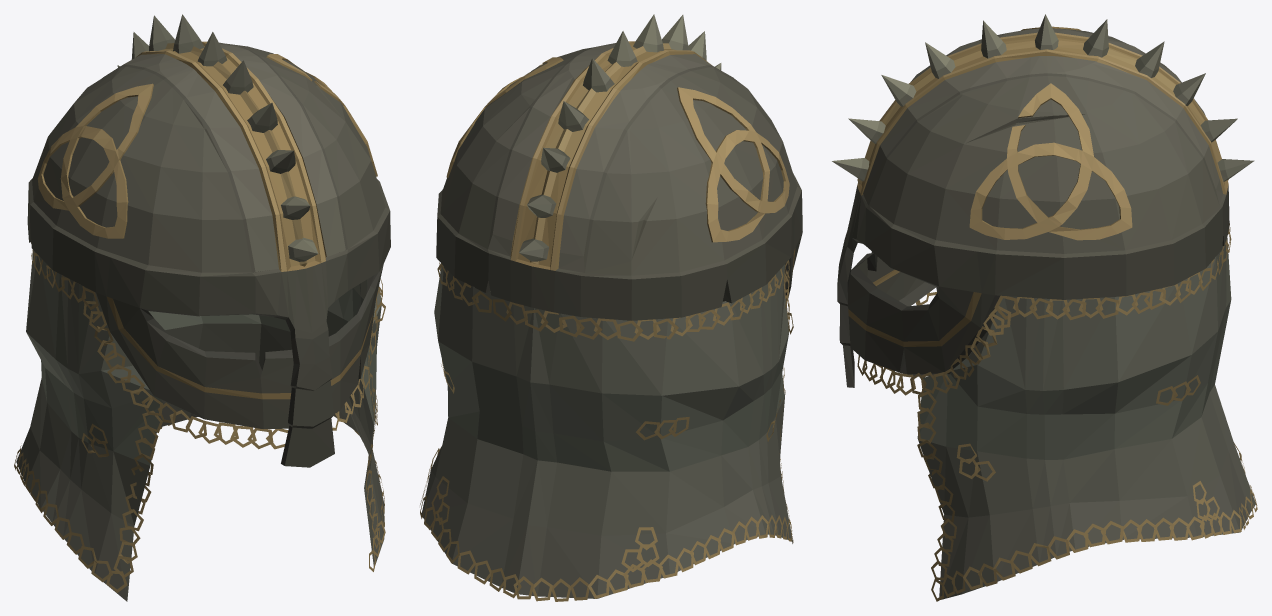
Rendered from heavyVikingHelmetEmblemFemale.glb.
The picture shows the model from 3 angles, left to right: view 1: azimuth 30°, elevation 25°; view 2: azimuth 150°, elevation 25°; view 3: azimuth 270°, elevation 25°; orthographic projection.
Parts seen in each view (by area): view 1: heavyVikingHelmetEmblem; view 2: heavyVikingHelmetEmblem; view 3: heavyVikingHelmetEmblem.
Part boxes in pixels (left/top/right/bottom): heavyVikingHelmetEmblem: left=14, top=14, right=390, bottom=601; heavyVikingHelmetEmblem: left=420, top=14, right=802, bottom=601; heavyVikingHelmetEmblem: left=832, top=14, right=1257, bottom=601.
Size of the model in its own units: 0.3009 by 0.4772 by 0.3447.
